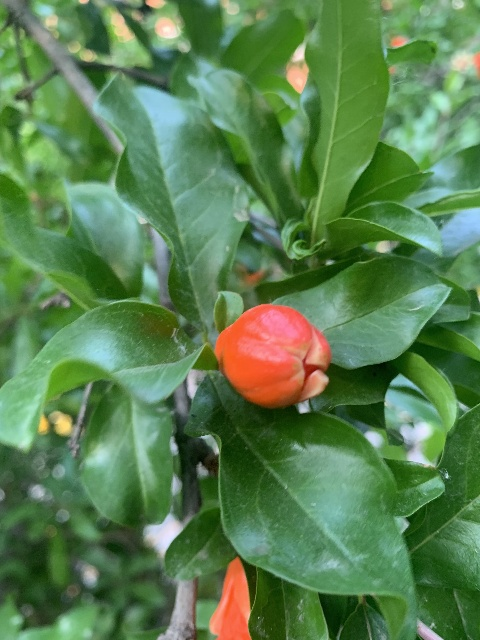bud: (216, 303, 332, 410)
flower: (207, 556, 257, 639)
